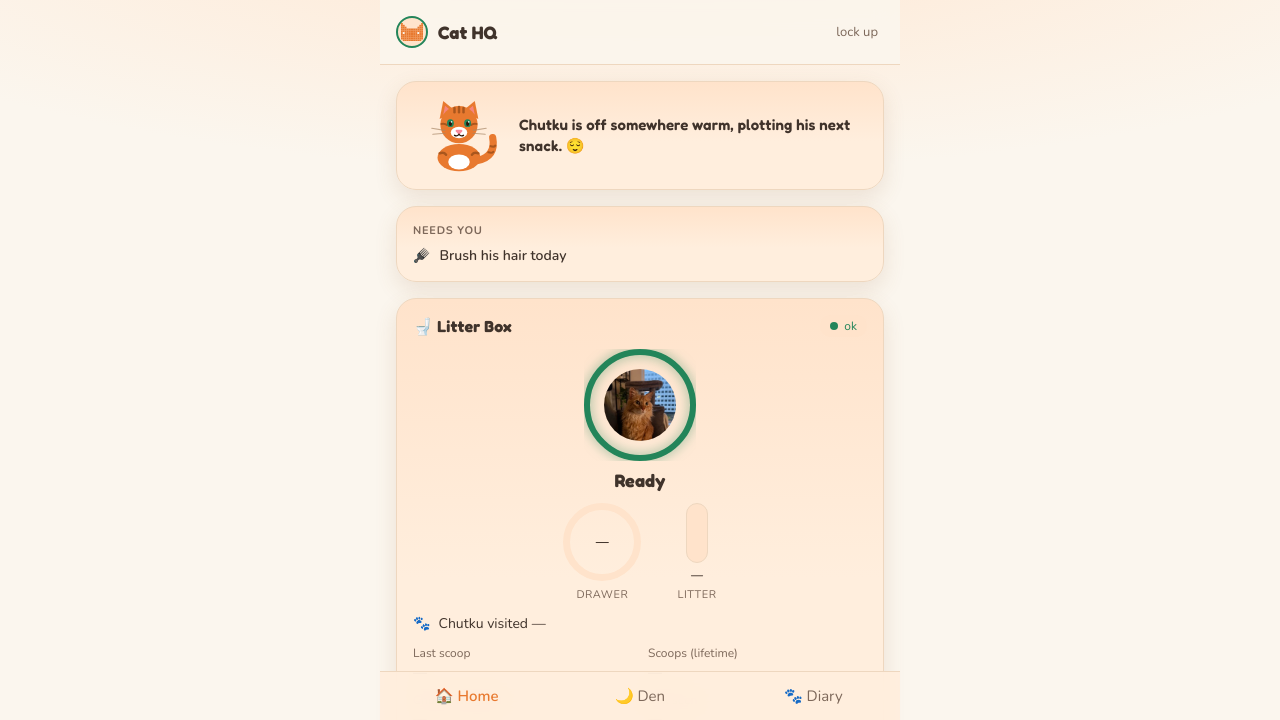
Scenario: App shell › the 🌙 Den tab renders the insights dashboard
This screenshot has width=1280, height=720.
Click the button "🌙 Den": (640, 696) [553, 672, 727, 719]
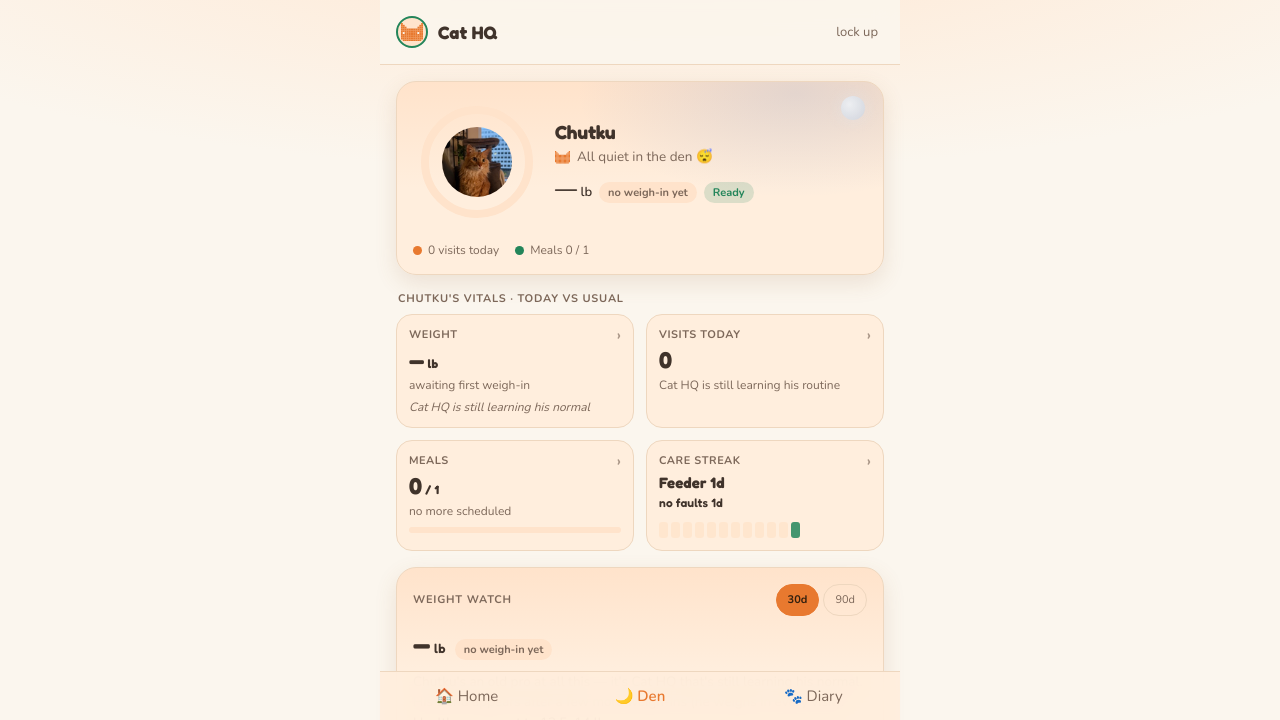
Expected: the text "Chutku" is shown, [555, 120, 616, 143]
Result: the text "Weight watch" is shown at [413, 592, 512, 607]
